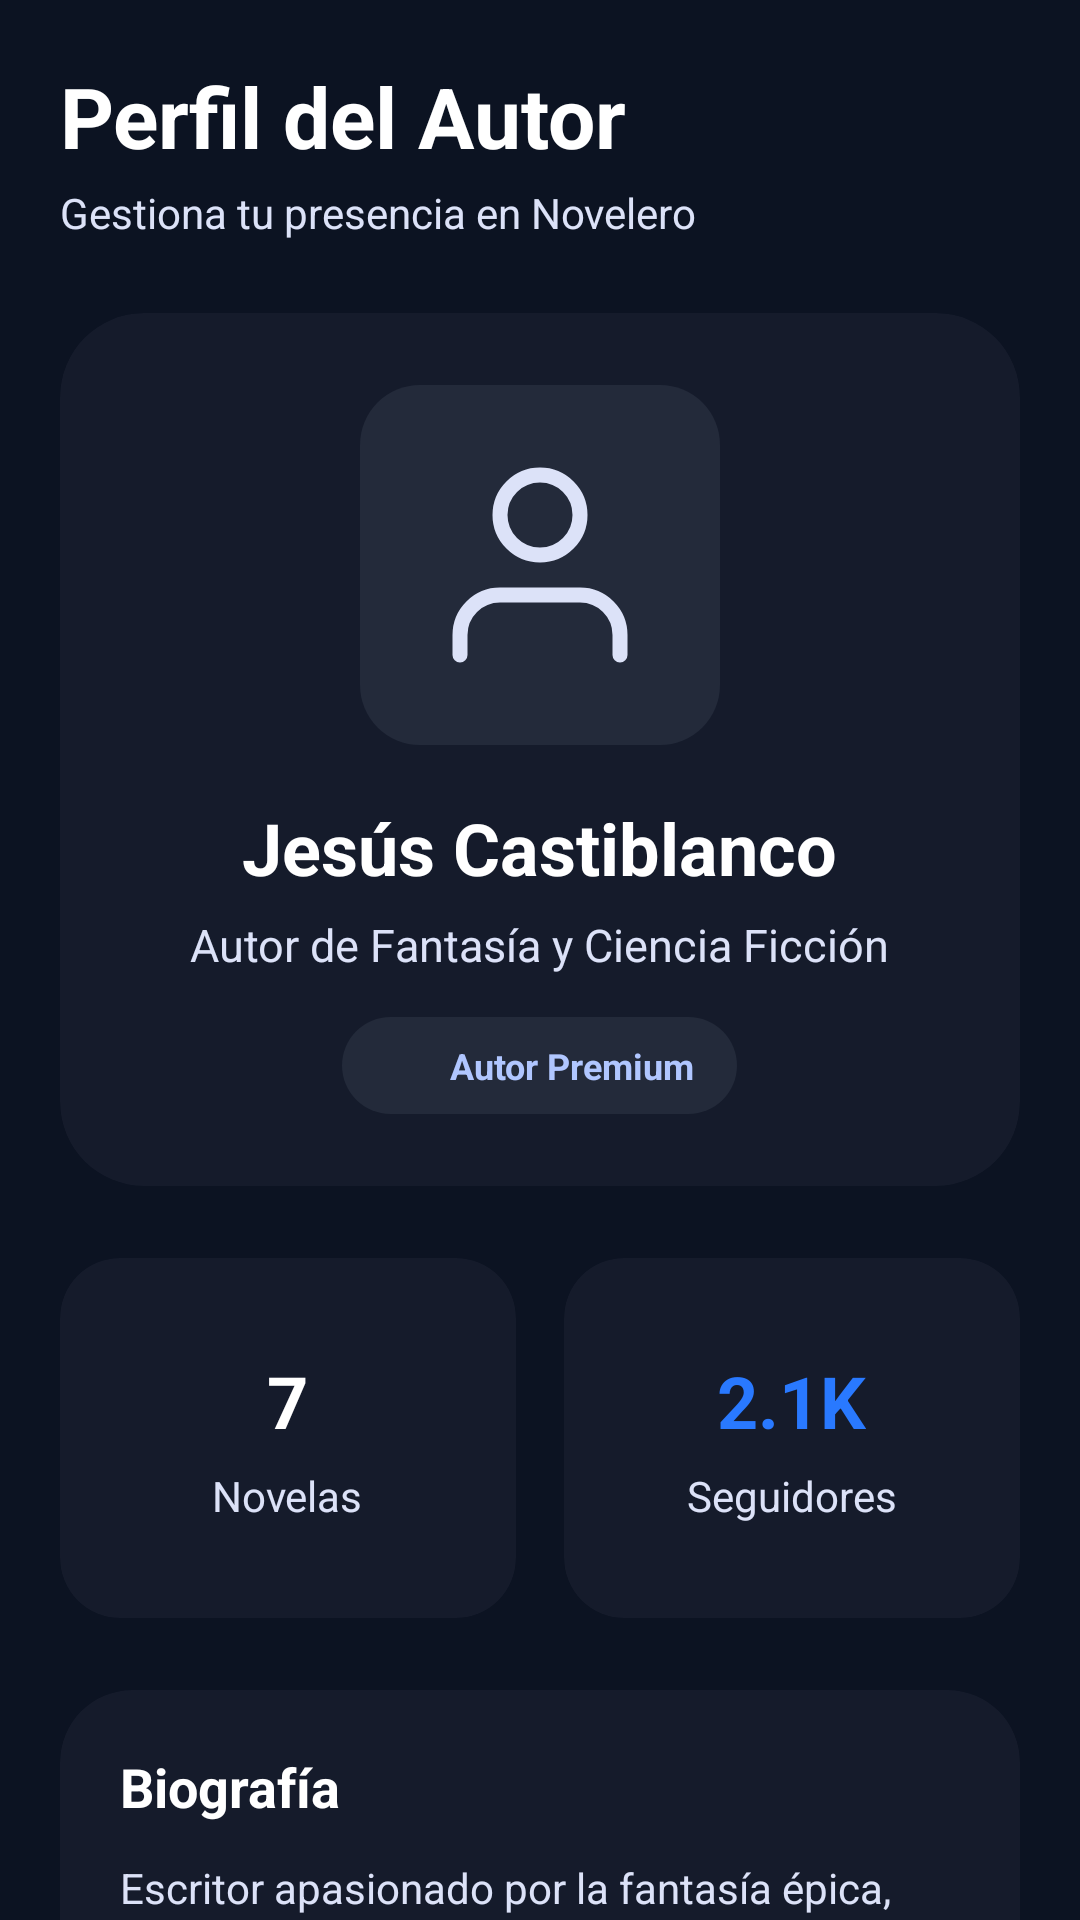

Icons on this 1080 x 1920 Android screen, each with its box as [left=x1, top=y1, right=x2, bottom=y2]:
perfil: [left=360, top=385, right=720, bottom=745]
